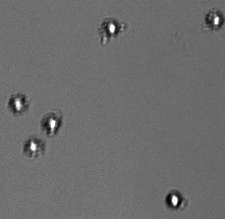Living Cell: (39, 110, 62, 136), (99, 17, 124, 40), (21, 135, 45, 157), (164, 188, 186, 210), (9, 93, 31, 114), (205, 8, 223, 31)
